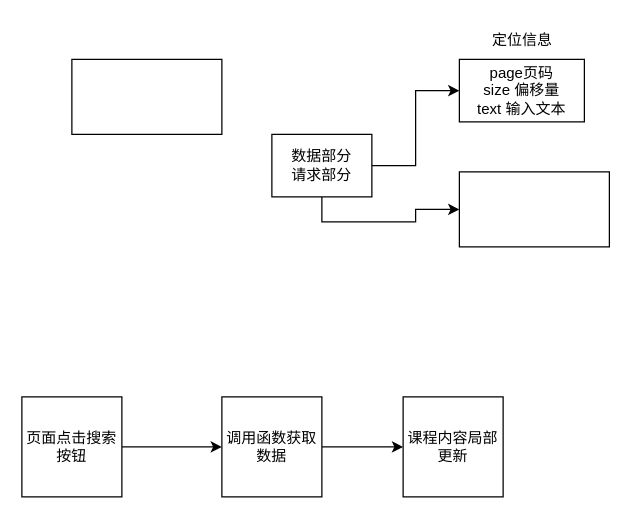
Some shapes in this 631 by 519 pixel diagram are drawn without their labels. Here are the shapes that lost their labels. From the top down, the box of each, then its label:
(71, 58, 222, 134): 点击触发事件，调用函数
(458, 171, 609, 247): 请求URL URL应当包含的参数
